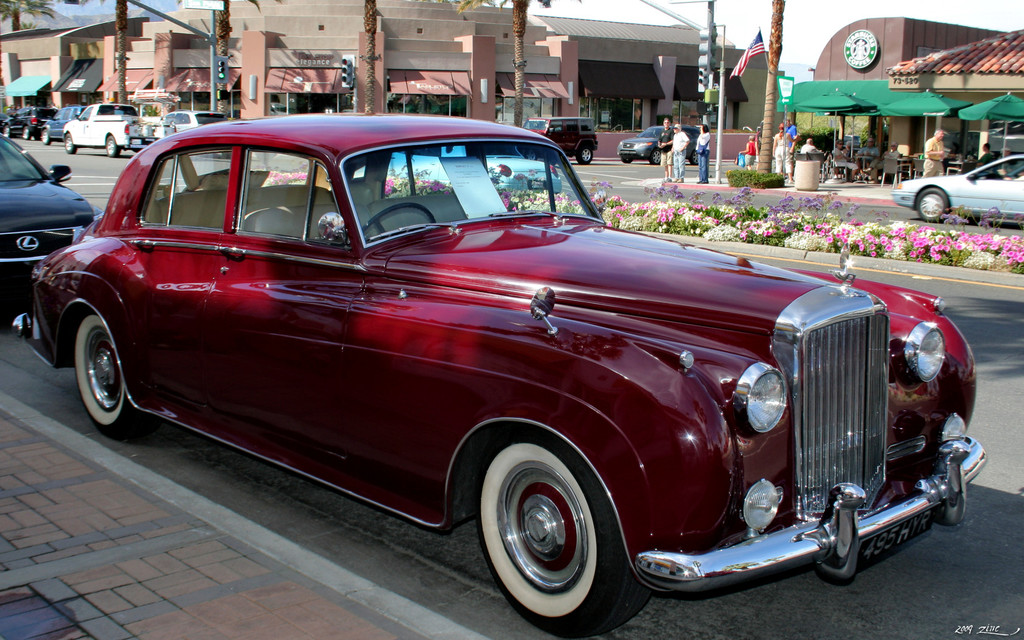cars: (30, 123, 981, 620), (0, 133, 94, 287), (890, 157, 1023, 226), (621, 126, 708, 165), (522, 124, 597, 163), (0, 105, 61, 139)
